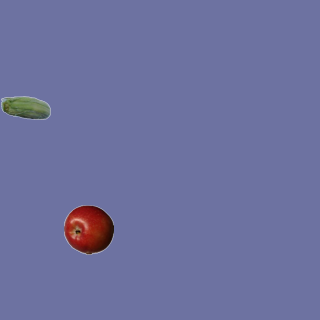Apple Braeburn: (63, 204, 113, 254)
Corn Husk: (0, 84, 50, 134)
